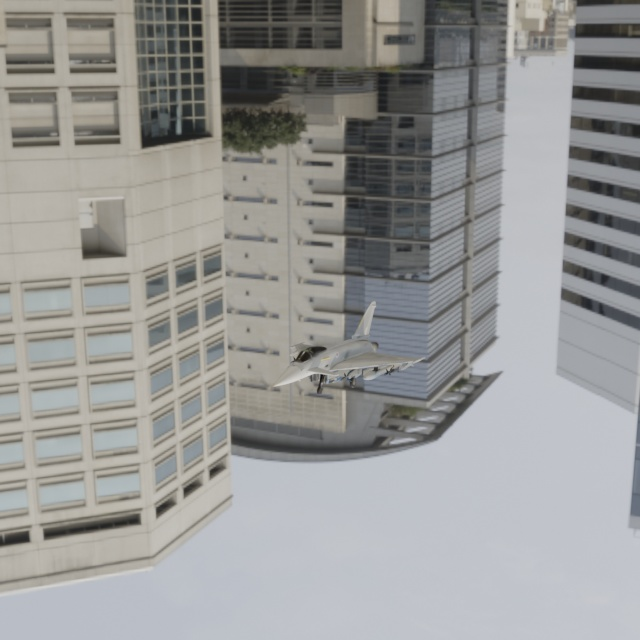eurofighter_typhoon_3d: (205, 295, 439, 426)
